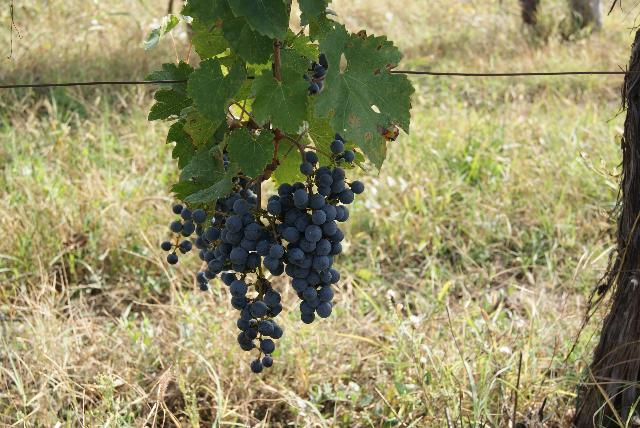grapes: (170, 192, 282, 374), (269, 151, 364, 322)
